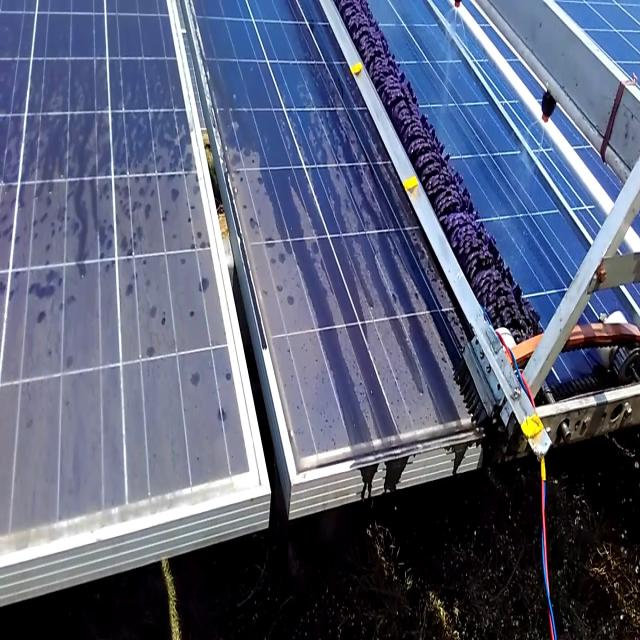dust-solar-panel: (0, 169, 254, 549), (228, 154, 348, 474)
